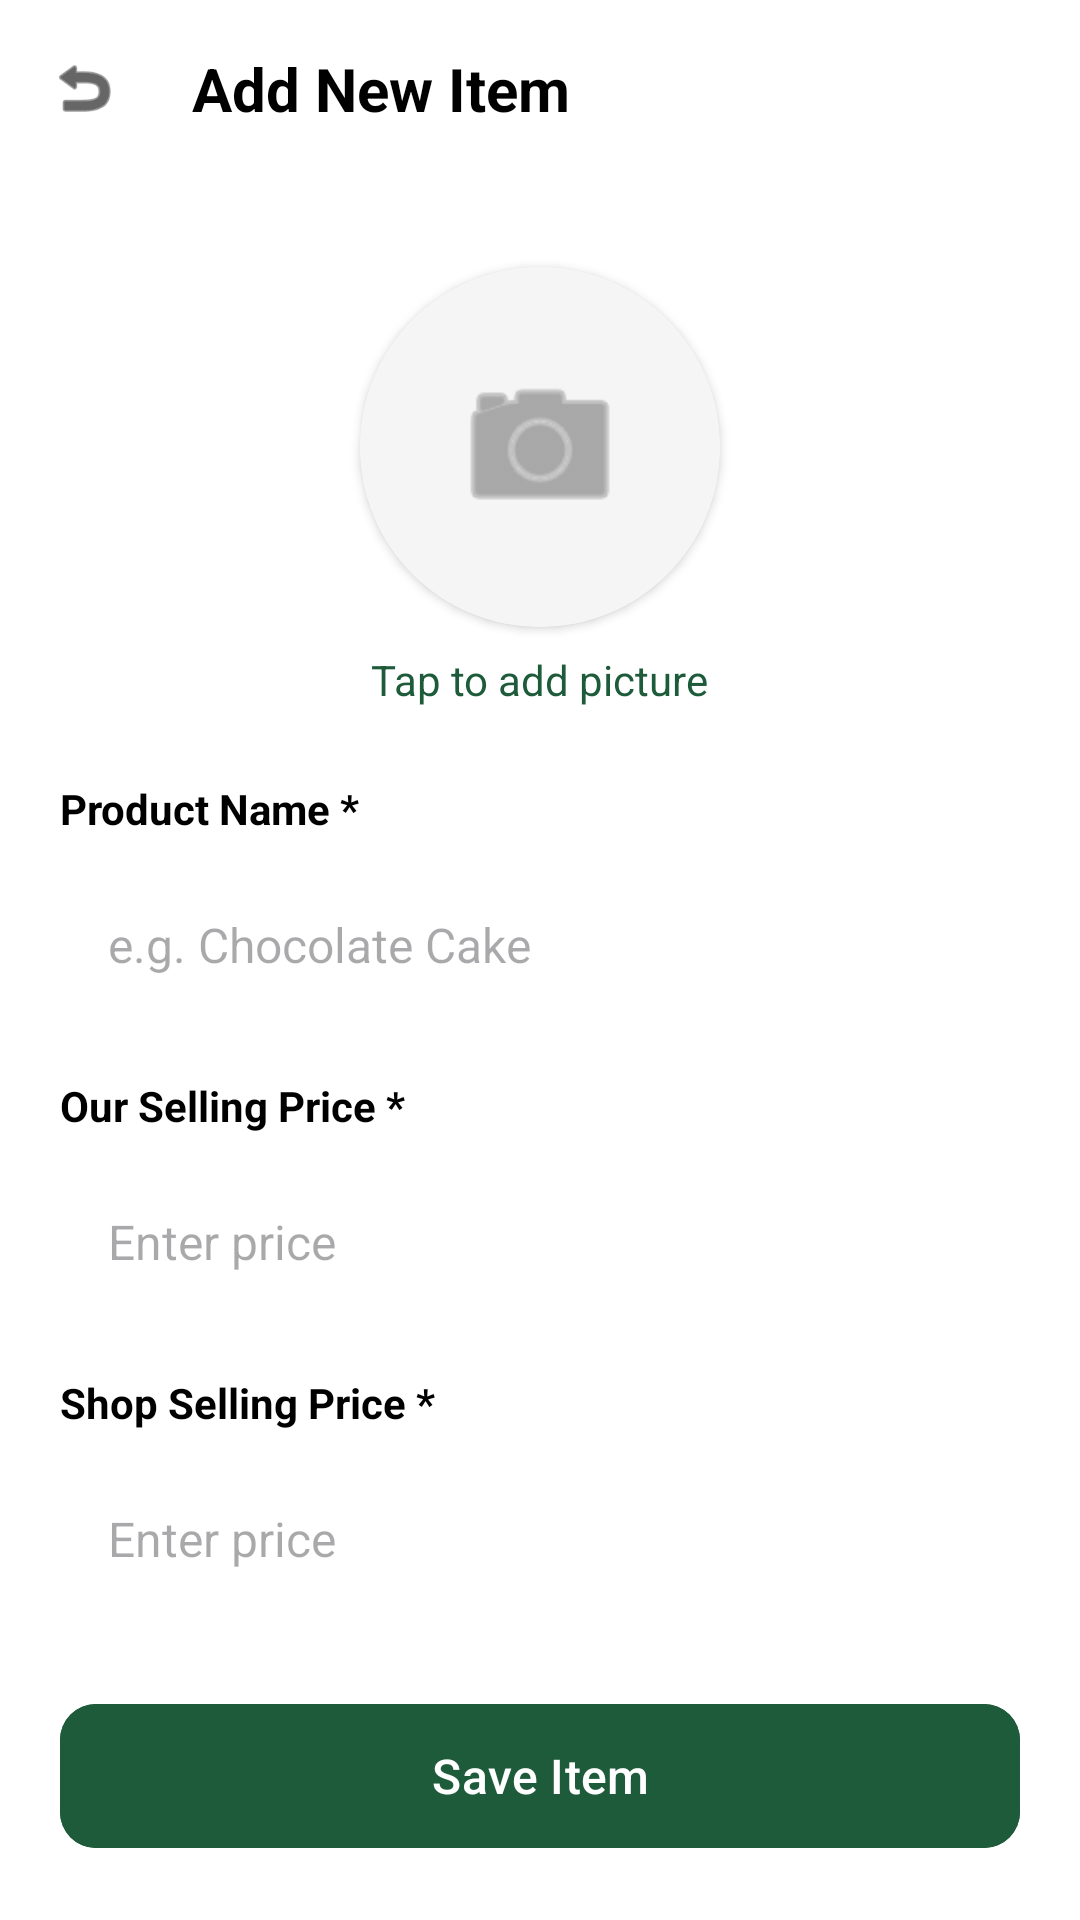

Icon bounding boxes for this 1080px x 1920px phone screenshot, format (x1, y1, x2, y2):
camera: (360, 267, 720, 627)
revert: (59, 65, 111, 112)
